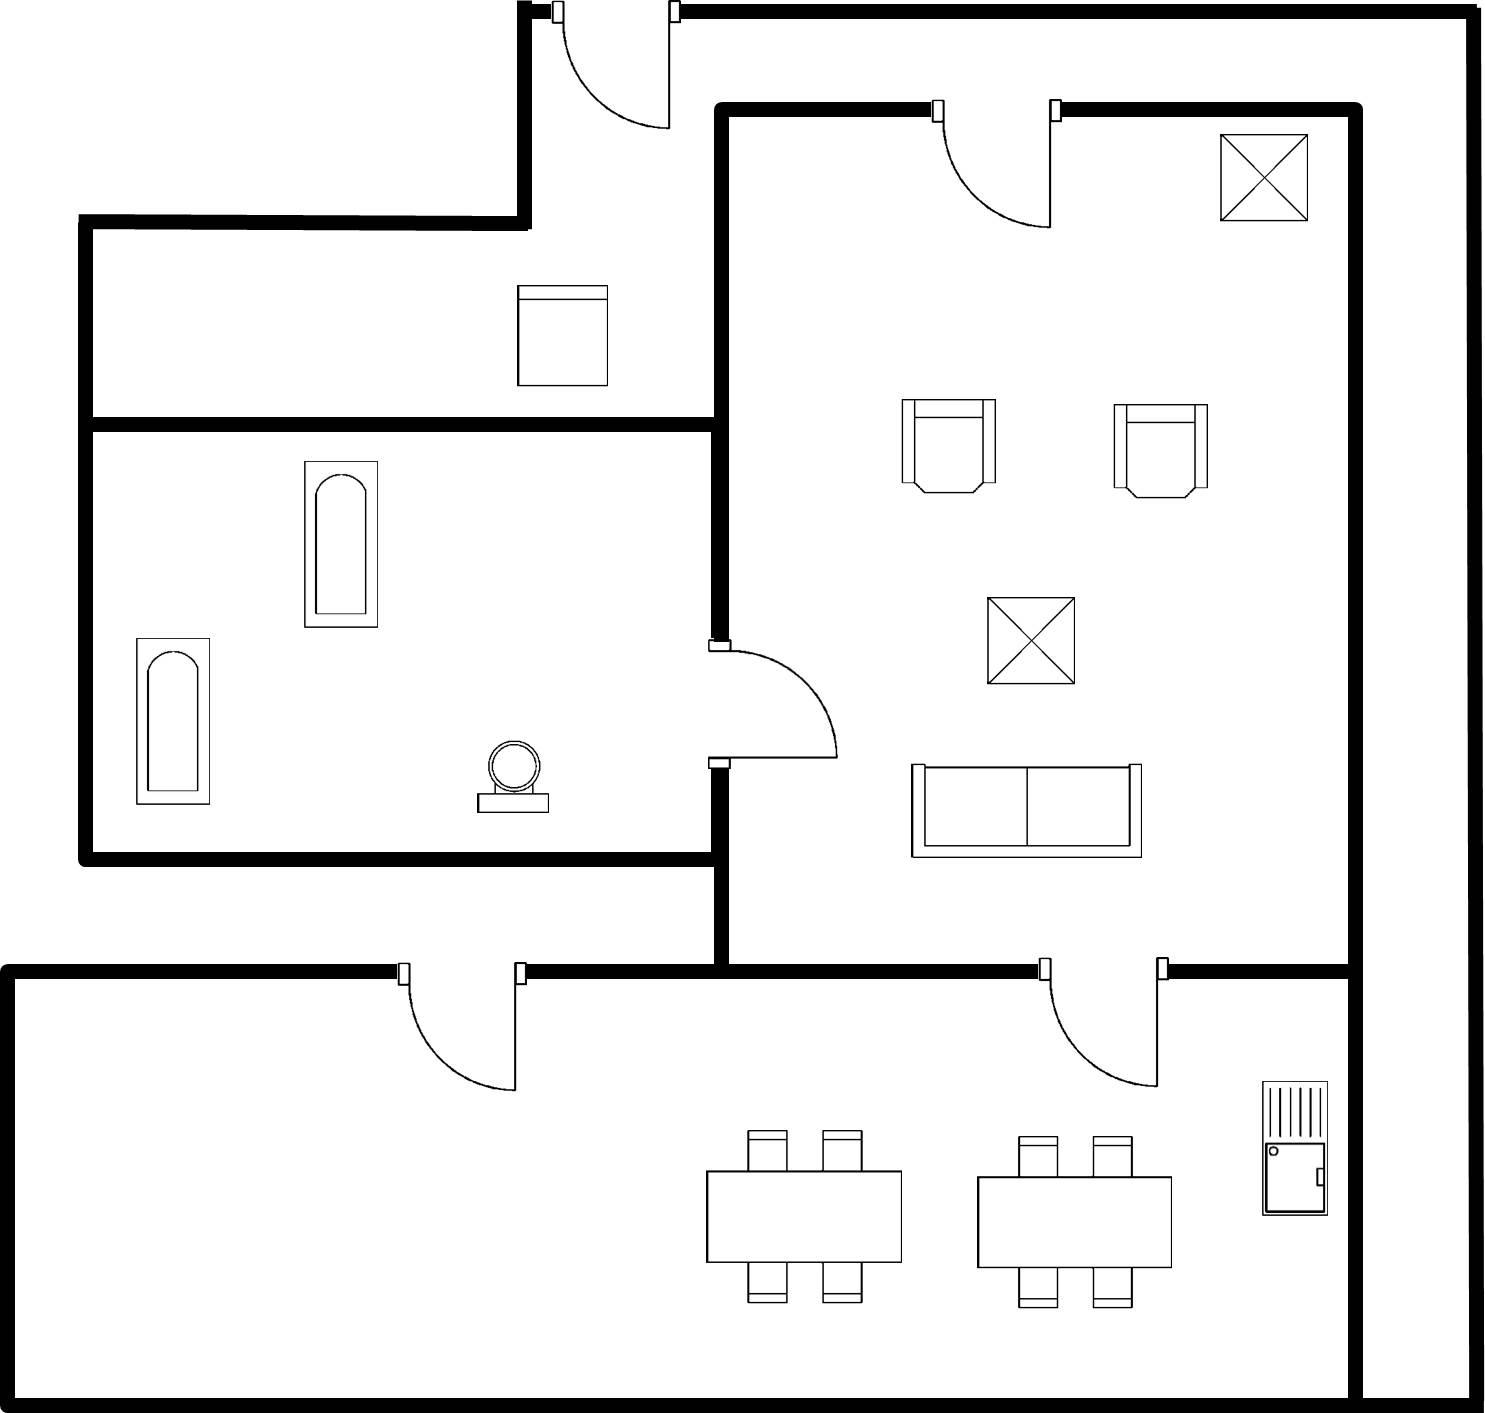dining_table: (963, 1124, 1187, 1319), (693, 1119, 915, 1314)
sink: (1246, 1071, 1340, 1231)
sofa: (898, 753, 1152, 871)
toilet: (465, 728, 557, 820)
tub: (121, 626, 224, 817), (289, 449, 388, 646)
